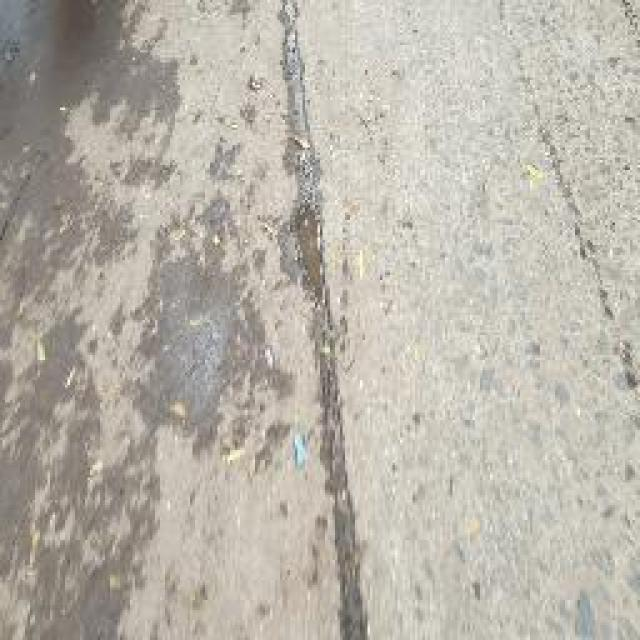stagnation: (112, 237, 272, 470)
